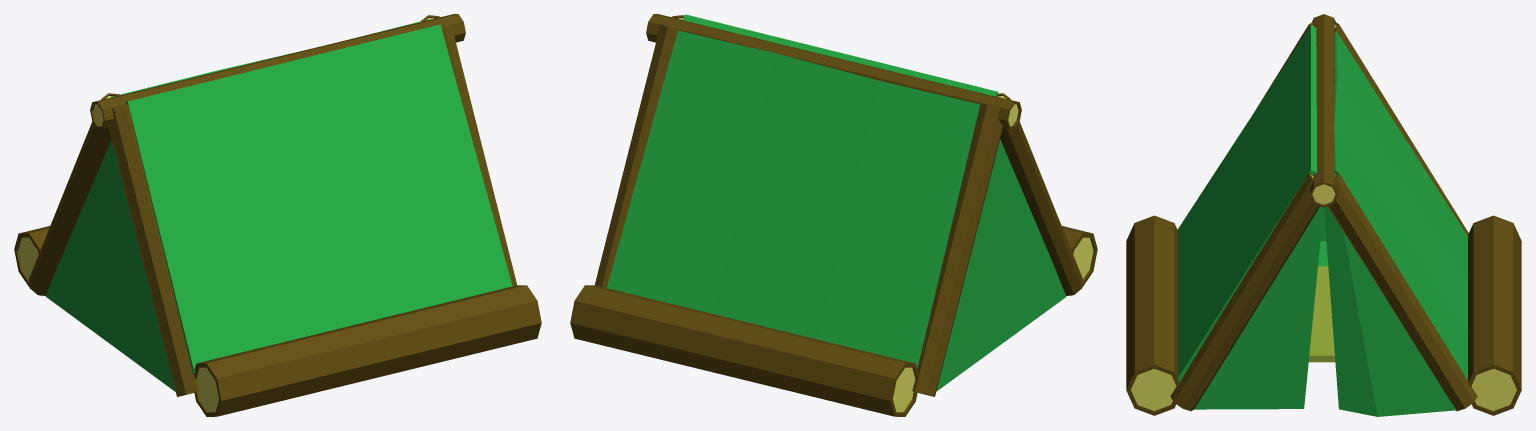
File: tent.glb
The picture shows the model from 3 angles, left to right: view 1: azimuth 30°, elevation 25°; view 2: azimuth 150°, elevation 25°; view 3: azimuth 270°, elevation 25°; orthographic projection. The views are drawn at different scales.
Visible parts, largest first — view 1: Cube, Cylinder, Cube.005, Cylinder.005, Cylinder.006, Cylinder.002, Cylinder.003, Cylinder.001; view 2: Cube.003, Cylinder.001, Cube.005, Cylinder.006, Cylinder.002, Cylinder.004, Cylinder.005, Cube, Cylinder; view 3: Cube, Cube.003, Cube.007, Cube.006, Cylinder.001, Cylinder, Cylinder.003, Cylinder.004, Cylinder.002, Cube.004, Cylinder.006.
Boxes of the visible parts, x1,y1,x2,y2 form: Cube: [125, 24, 512, 373]; Cylinder: [193, 285, 541, 416]; Cube.005: [45, 139, 182, 396]; Cylinder.005: [109, 104, 199, 396]; Cylinder.006: [29, 93, 120, 295]; Cylinder.002: [90, 14, 465, 128]; Cylinder.003: [441, 25, 516, 285]; Cylinder.001: [14, 226, 49, 286]; Cube.003: [607, 30, 980, 368]; Cylinder.001: [570, 285, 918, 416]; Cube.005: [936, 139, 1066, 391]; Cylinder.006: [912, 103, 1002, 396]; Cylinder.002: [646, 14, 1021, 128]; Cylinder.004: [595, 25, 679, 287]; Cylinder.005: [997, 93, 1082, 295]; Cube: [682, 14, 998, 96]; Cylinder: [1062, 226, 1097, 286]; Cube: [1177, 25, 1316, 382]; Cube.003: [1334, 27, 1467, 379]; Cube.007: [1324, 206, 1456, 416]; Cube.006: [1194, 206, 1323, 409]; Cylinder.001: [1468, 215, 1521, 415]; Cylinder: [1126, 215, 1179, 415]; Cylinder.003: [1170, 173, 1319, 411]; Cylinder.004: [1328, 171, 1477, 411]; Cylinder.002: [1310, 14, 1337, 207]; Cube.004: [1308, 241, 1335, 362]; Cylinder.006: [1334, 22, 1468, 236].
Bounding box in the file's own units: 2.82 × 1.91 × 2.8.
